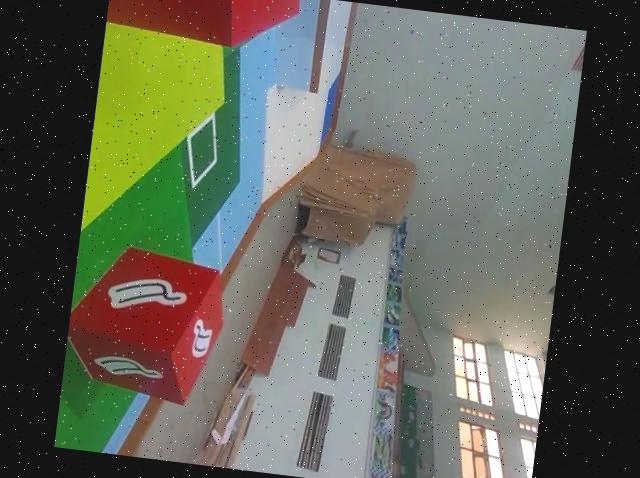R2 Real: (60, 241, 236, 417)
